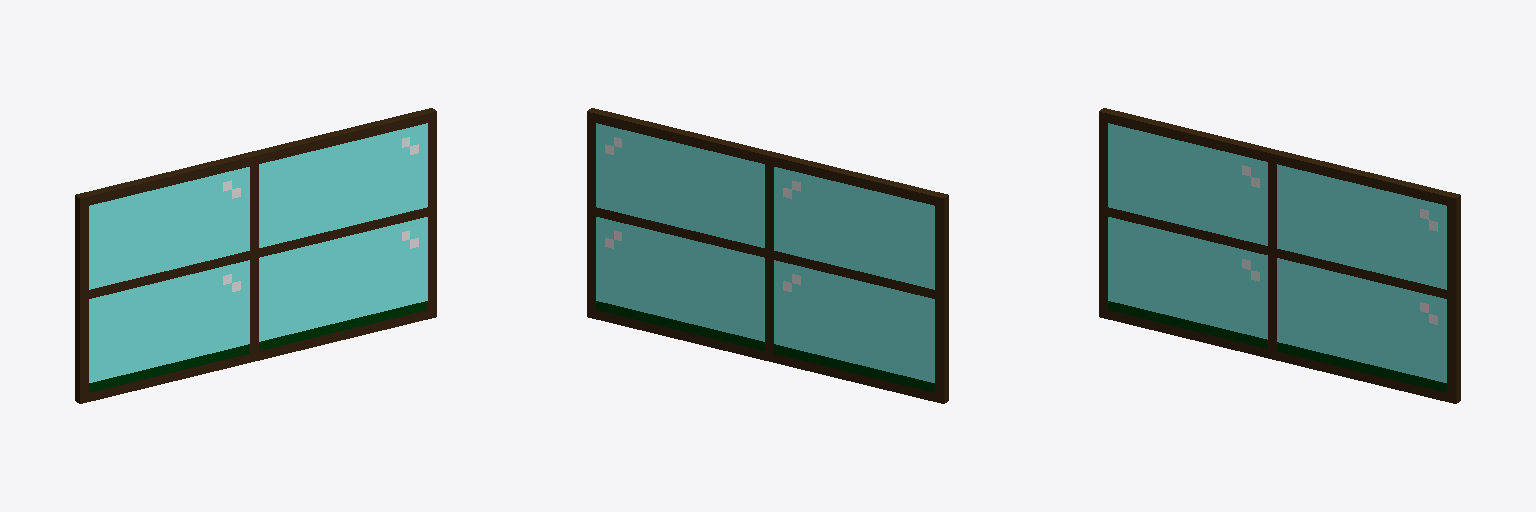
3 views of the same model, side by side, from view 1: azimuth 30°, elevation 25°; view 2: azimuth 150°, elevation 25°; view 3: azimuth 330°, elevation 25° (orthographic).
Visible parts, largest first — view 1: object 1; view 2: object 1; view 3: object 1.
Boxes of the visible parts, x1,y1,x2,y2 form: object 1: [75, 108, 436, 403]; object 1: [587, 108, 948, 403]; object 1: [1099, 108, 1460, 403].
Size of the model in its own units: 4 by 2.2 by 0.1.
Materials: 1 (1 with a texture image).